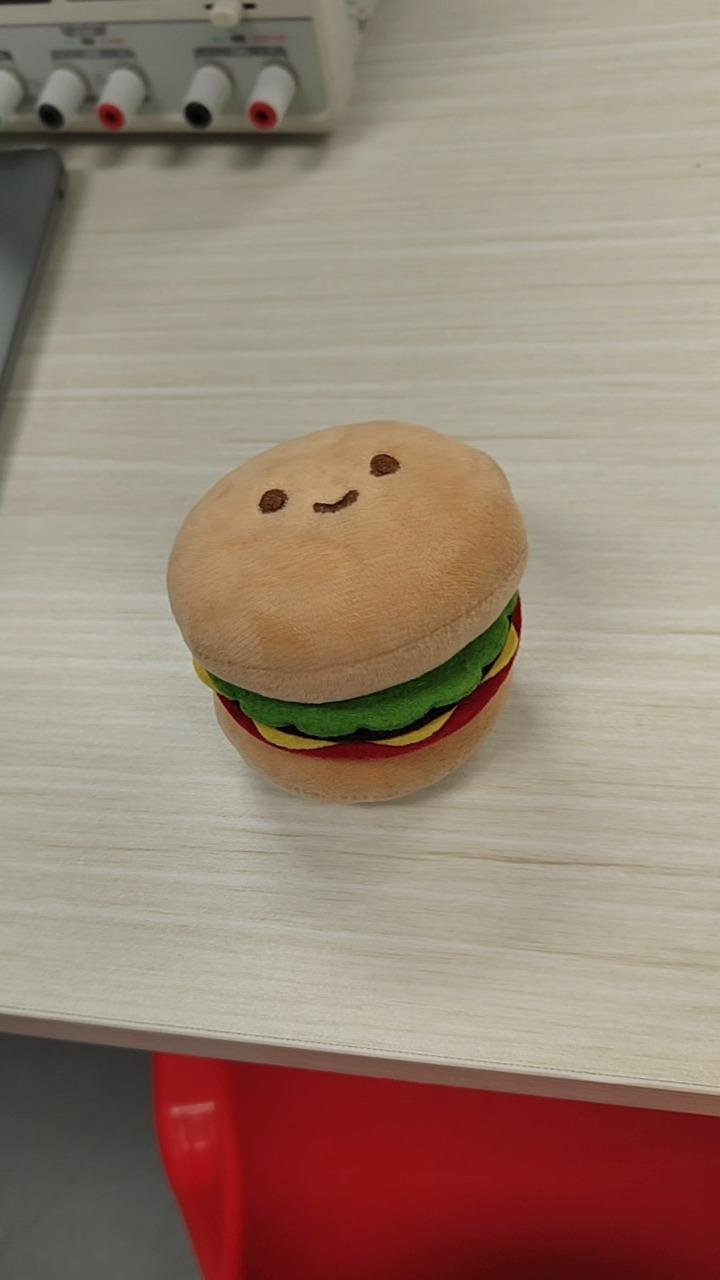hamburger: (165, 417, 528, 806)
